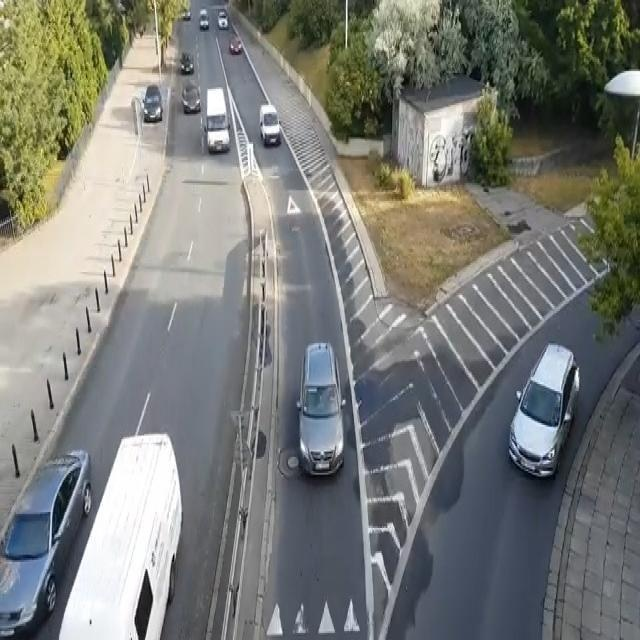Car: (56, 428, 185, 640), (0, 443, 94, 640), (502, 337, 588, 482), (294, 336, 350, 489), (203, 81, 232, 156), (254, 100, 286, 154), (138, 84, 168, 132), (173, 47, 204, 83), (181, 78, 207, 118), (224, 32, 253, 62), (196, 8, 214, 34), (214, 12, 232, 30)
